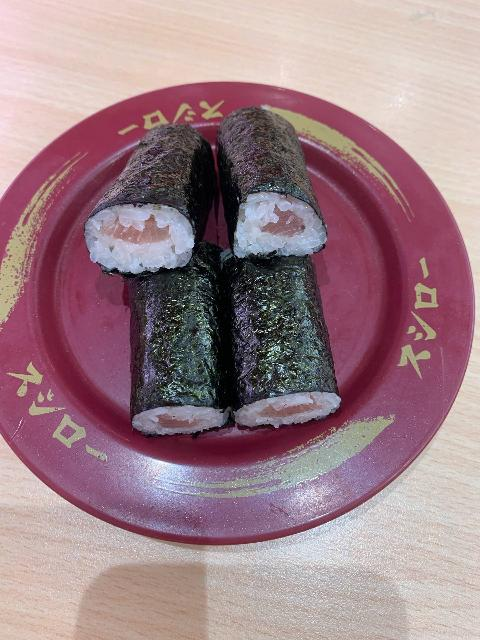janred: (33, 121, 460, 512)
